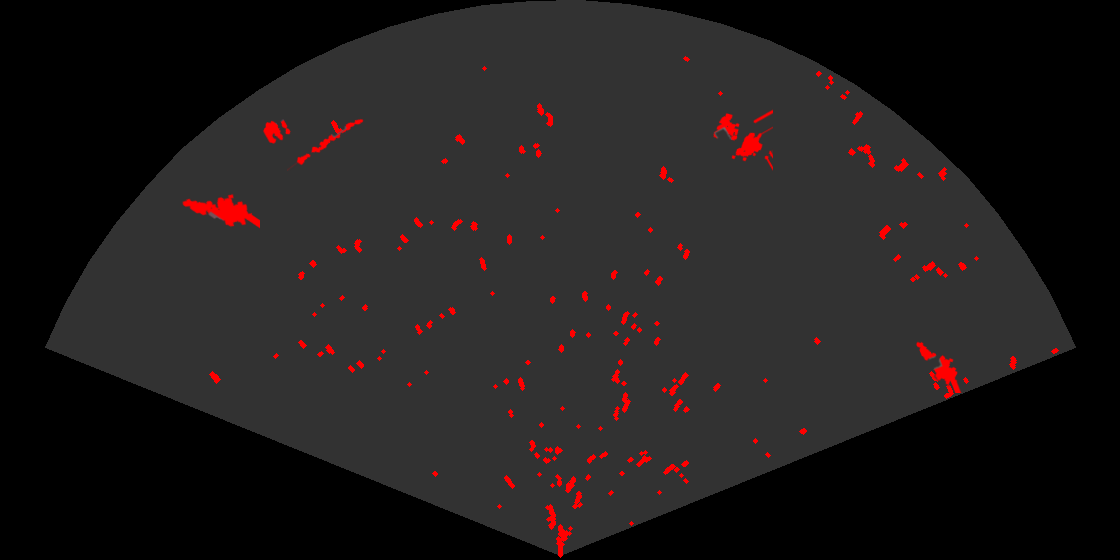ball: (261, 118, 292, 145)
cage: (712, 108, 773, 172)
chain: (287, 117, 365, 171)
frogman: (181, 192, 260, 230), (915, 340, 963, 393)
